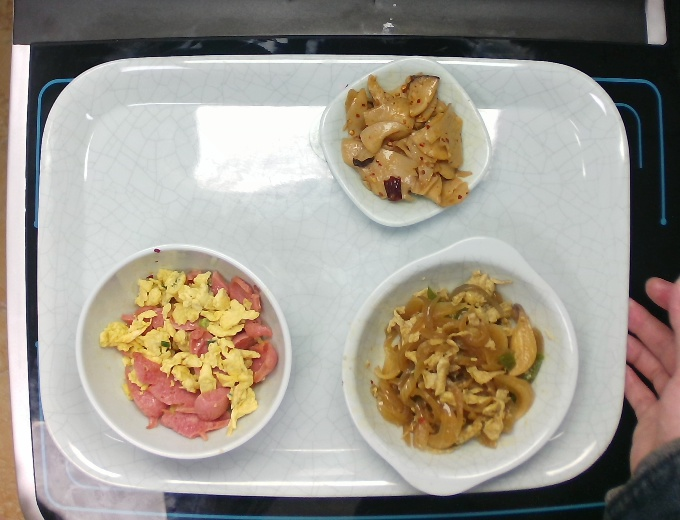JYsf-Fan_Wan: (78, 242, 292, 459)
JYsf-Shuang_Er_Wan: (340, 232, 582, 495)
JYsf-Si_Fang_Die: (319, 56, 492, 228)
